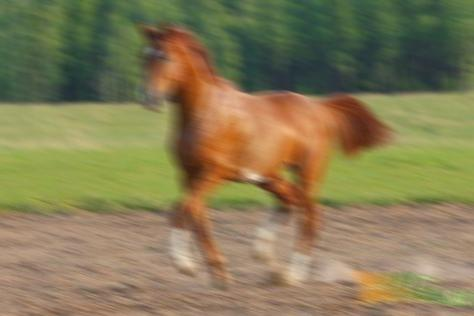horse: (136, 17, 399, 290)
